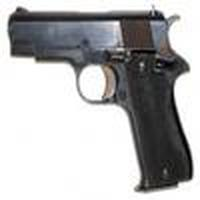gun: (8, 5, 192, 193)
